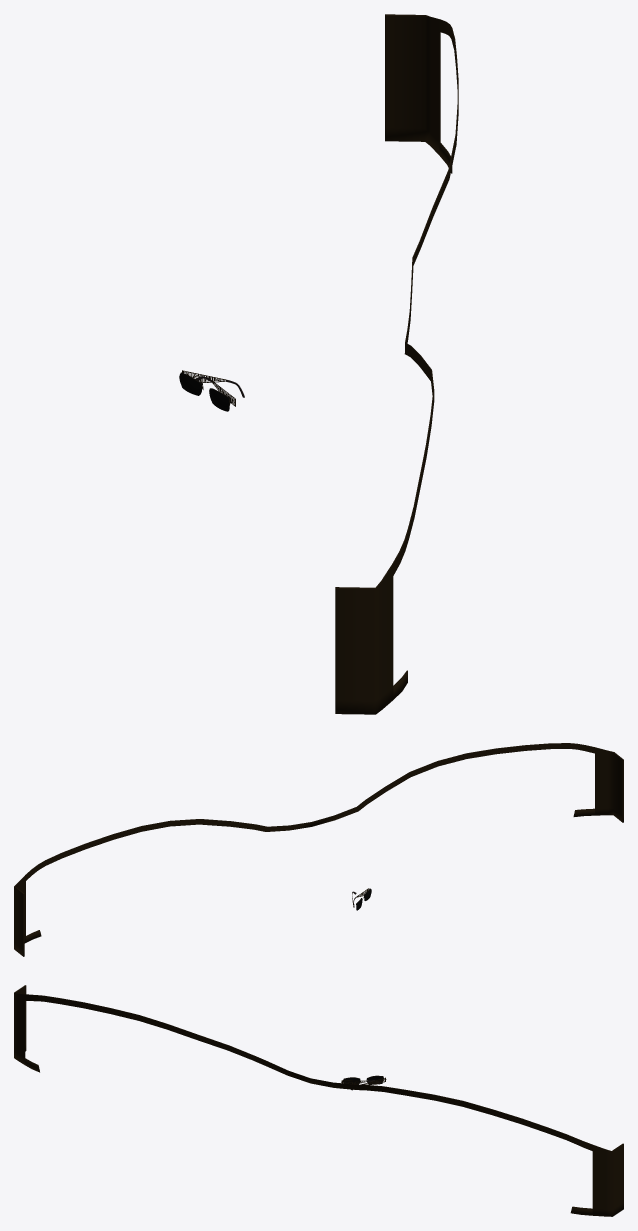
Rendered from glasses_4.glb.
3 views of the same model, one above another, from view 1: azimuth 30°, elevation 25°; view 2: azimuth 150°, elevation 25°; view 3: azimuth 270°, elevation 25° (orthographic). The views are drawn at different scales.
Visible parts, largest first — view 1: Ochki.001; view 2: Ochki.001; view 3: Ochki.001.
Part boxes in pixels (bbox=[...]): Ochki.001: bbox=[203, 14, 458, 714]; Ochki.001: bbox=[14, 743, 623, 956]; Ochki.001: bbox=[14, 985, 623, 1216].
Bounding box in the file's own units: 275535 × 67697 × 427061.
